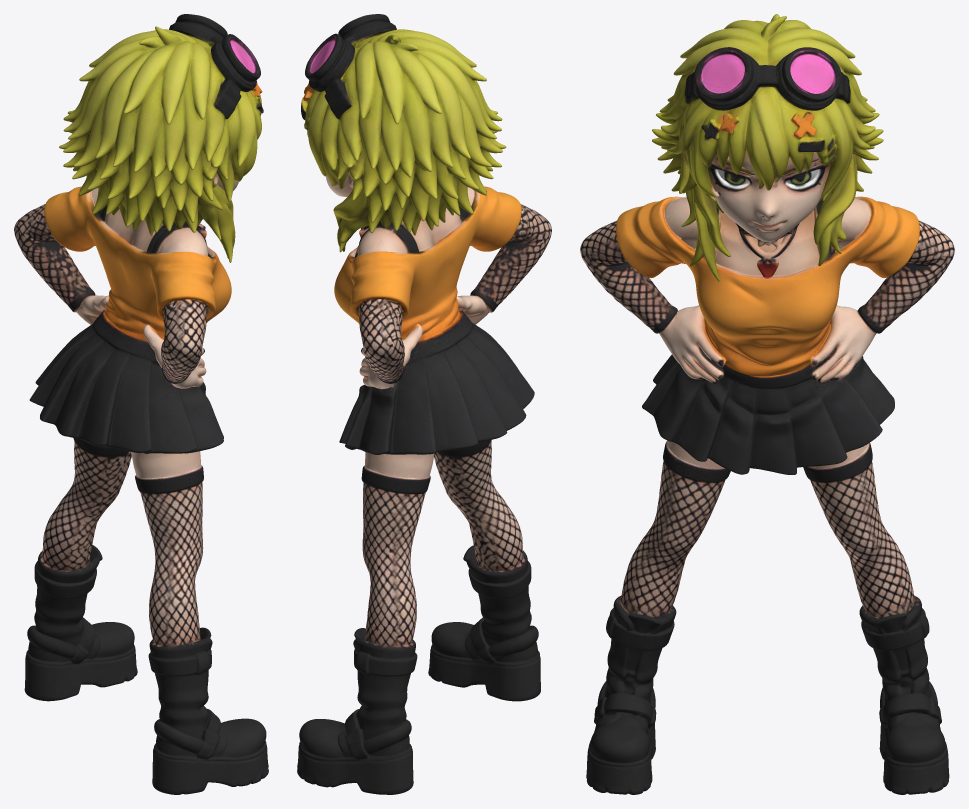
The model's file is 372-goggle-wearing-punk-girl.glb.
3 views of the same model, side by side, from view 1: azimuth 30°, elevation 25°; view 2: azimuth 150°, elevation 25°; view 3: azimuth 270°, elevation 25° (orthographic). The views are drawn at different scales.
Parts seen in each view (by area): view 1: tripo_node_26eedeea-a151-4014-aa67-84a058352e63; view 2: tripo_node_26eedeea-a151-4014-aa67-84a058352e63; view 3: tripo_node_26eedeea-a151-4014-aa67-84a058352e63.
Part boxes in pixels (x1,y1,x2,y2): tripo_node_26eedeea-a151-4014-aa67-84a058352e63: [14, 14, 268, 794]; tripo_node_26eedeea-a151-4014-aa67-84a058352e63: [297, 14, 551, 794]; tripo_node_26eedeea-a151-4014-aa67-84a058352e63: [580, 14, 954, 794].
Bounding box in the file's own units: 0.3088 × 1 × 0.4447.
1 material, 1 textured.
